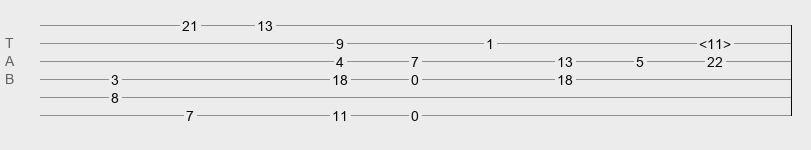0: (411, 108, 419, 118), (411, 72, 419, 82)
1: (486, 36, 494, 46)
11: (332, 108, 348, 118)
13: (257, 18, 273, 28), (557, 54, 573, 64)
18: (332, 72, 348, 82), (557, 72, 573, 82)
21: (182, 18, 198, 28)
22: (707, 54, 723, 64)
3: (111, 72, 119, 82)
4: (336, 54, 344, 64)
5: (636, 54, 644, 64)
7: (186, 108, 194, 118), (411, 54, 419, 64)
8: (111, 90, 119, 100)
9: (336, 36, 344, 46)
harmonic: (699, 36, 731, 46)
